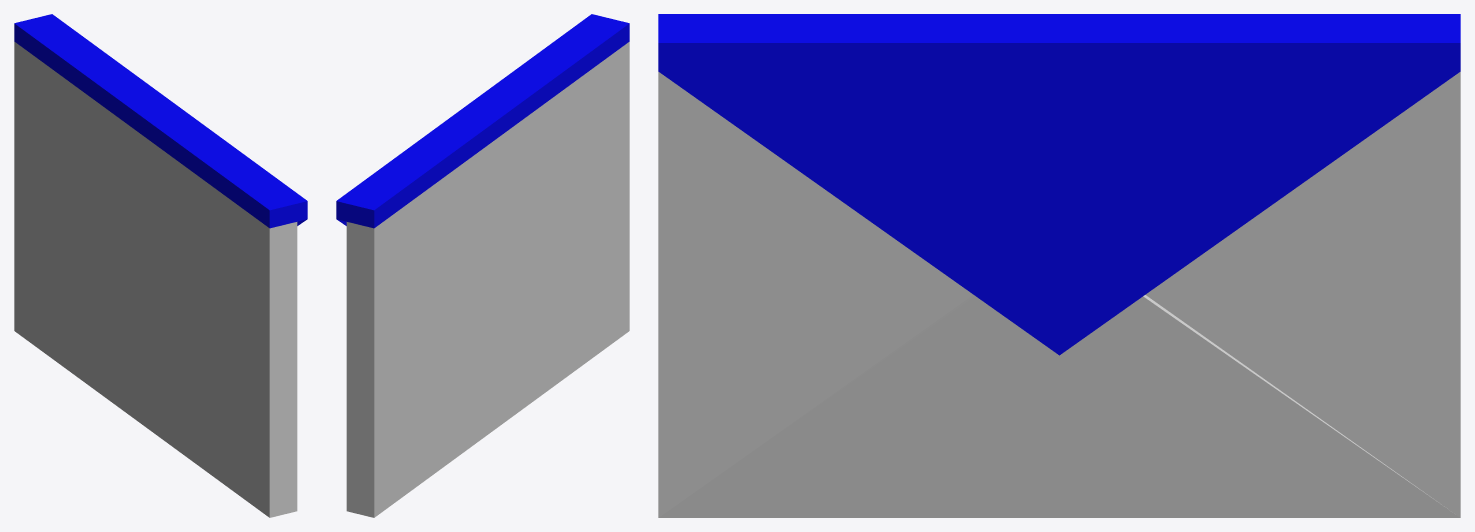
File: Email.fbx
3 views of the same model, side by side, from view 1: azimuth 30°, elevation 25°; view 2: azimuth 150°, elevation 25°; view 3: azimuth 270°, elevation 25° (orthographic). The views are drawn at different scales.
Parts seen in each view (by area): view 1: Cube; view 2: Cube; view 3: Cube, Cube.001.
Boxes of the visible parts, left/top/right/bottom form: Cube: left=14, top=14, right=307, bottom=517; Cube: left=336, top=14, right=629, bottom=517; Cube: left=658, top=14, right=1460, bottom=517; Cube.001: left=659, top=295, right=1459, bottom=517.
Bounding box in the file's own units: 0.1719 × 1.33 × 2.
